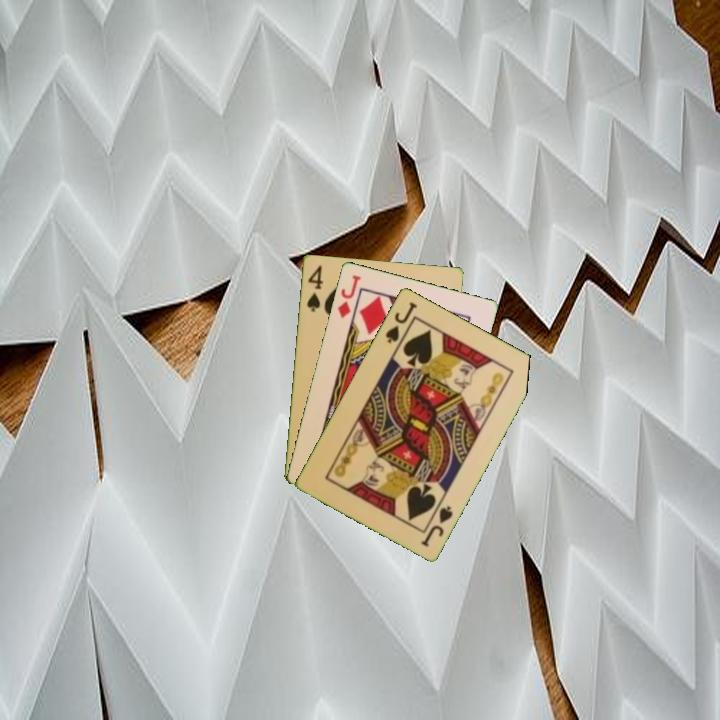4s: (303, 262, 326, 314)
Jd: (333, 271, 363, 321)
Js: (417, 502, 456, 549), (382, 298, 420, 346)
